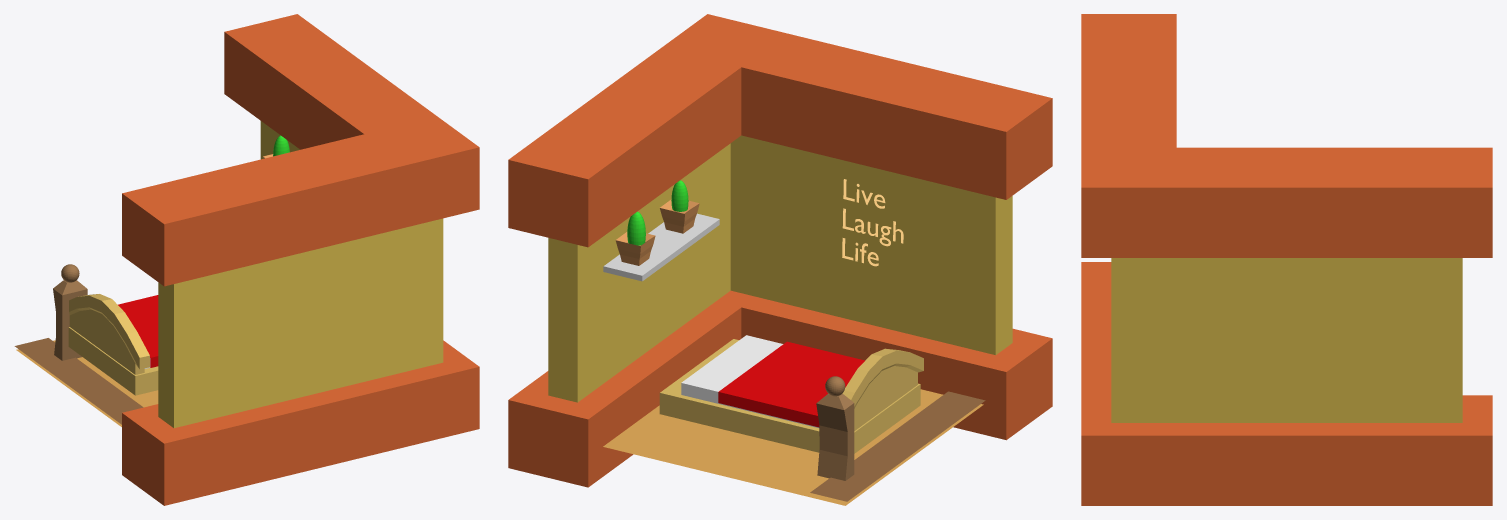
The model's file is bedroom.glb.
3 renders of one model, left to right at view 1: azimuth 30°, elevation 25°; view 2: azimuth 150°, elevation 25°; view 3: azimuth 270°, elevation 25°, orthographic. The views are drawn at different scales.
Visible parts, largest first — view 1: Cube, Plane.003, Plane.001, Plane.002, Plane.004, Plane.005, Plane; view 2: Cube, Plane, Plane.005, Plane.002, Plane.001, Plane.003, Plane.004, Plane.007, Text, Cube.001, Cube.002; view 3: Cube.
Part boxes in pixels (box(x1,y1,x2,y2)): Cube: box(122, 14, 479, 505); Plane.003: box(69, 294, 149, 374); Plane.001: box(14, 338, 143, 424); Plane.002: box(68, 327, 158, 395); Plane.004: box(53, 264, 87, 360); Plane.005: box(118, 295, 158, 368); Plane: box(16, 340, 158, 426); Cube: box(508, 14, 1052, 487); Plane: box(603, 389, 983, 505); Plane.005: box(681, 335, 864, 427); Plane.002: box(659, 339, 920, 453); Plane.001: box(810, 391, 985, 501); Plane.003: box(842, 348, 923, 430); Plane.004: box(816, 376, 854, 480); Plane.007: box(603, 213, 719, 281); Text: box(842, 179, 903, 266); Cube.001: box(660, 199, 699, 233); Cube.002: box(615, 232, 655, 265); Cube: box(1081, 14, 1492, 505).
Size of what is drawn, in the model's own units: 2.34 by 2 by 2.34.
